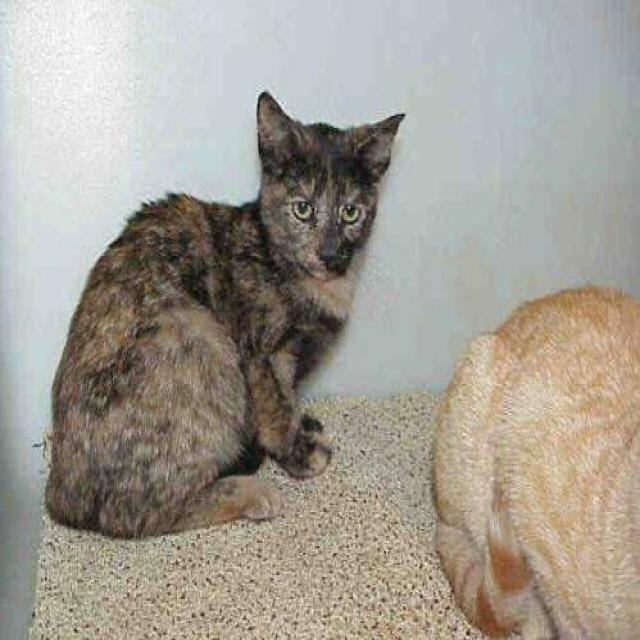cat: (42, 89, 406, 539), (430, 284, 638, 638)
